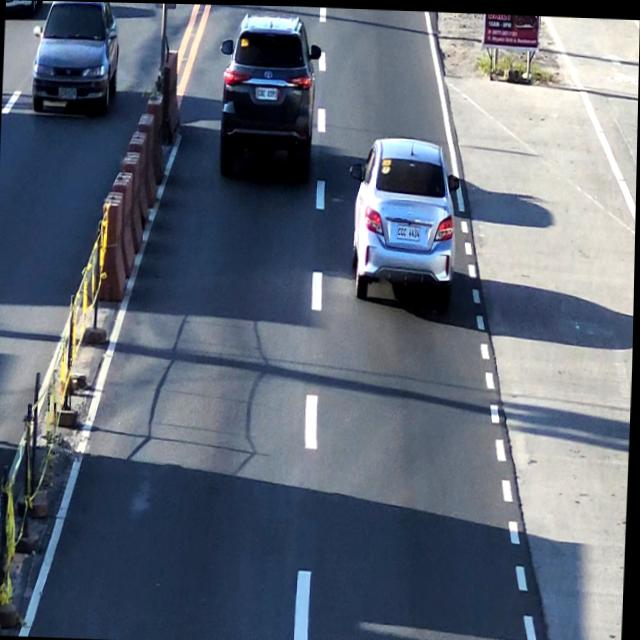Car: (350, 137, 460, 308), (213, 11, 318, 182)
License-Plate: (395, 219, 423, 240), (254, 84, 278, 100)
